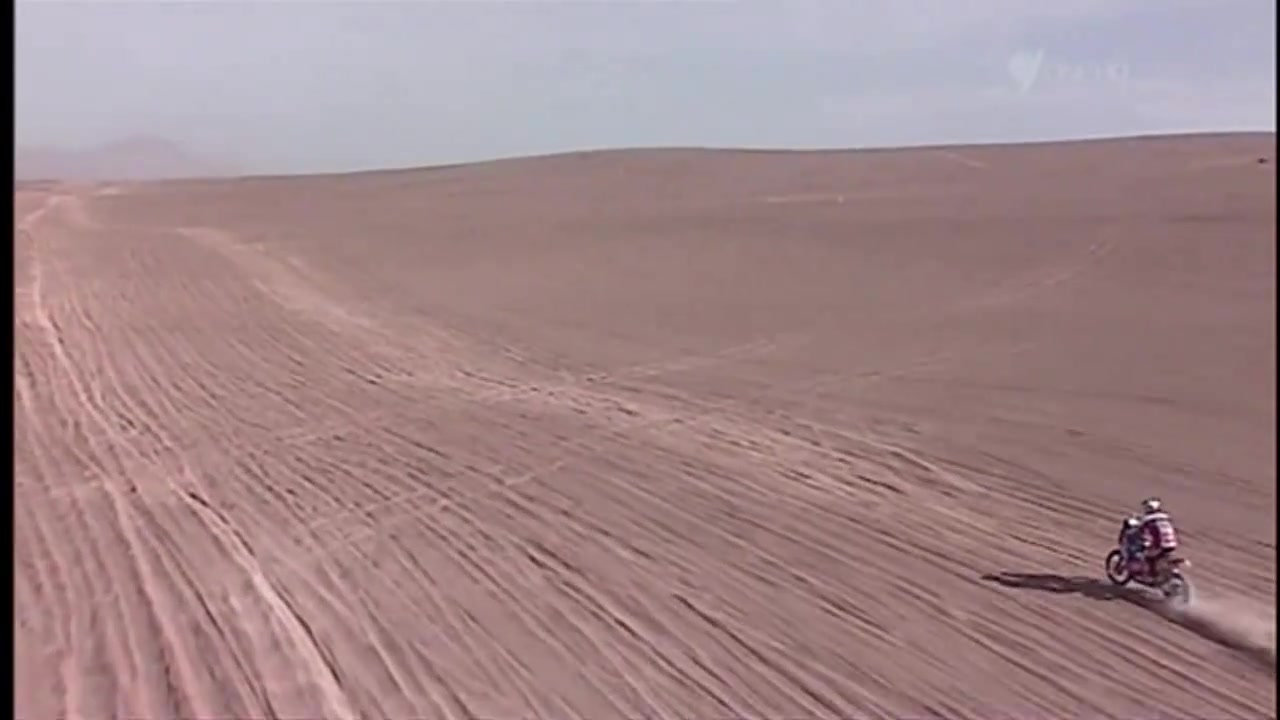motorbike: (1103, 520, 1200, 617)
